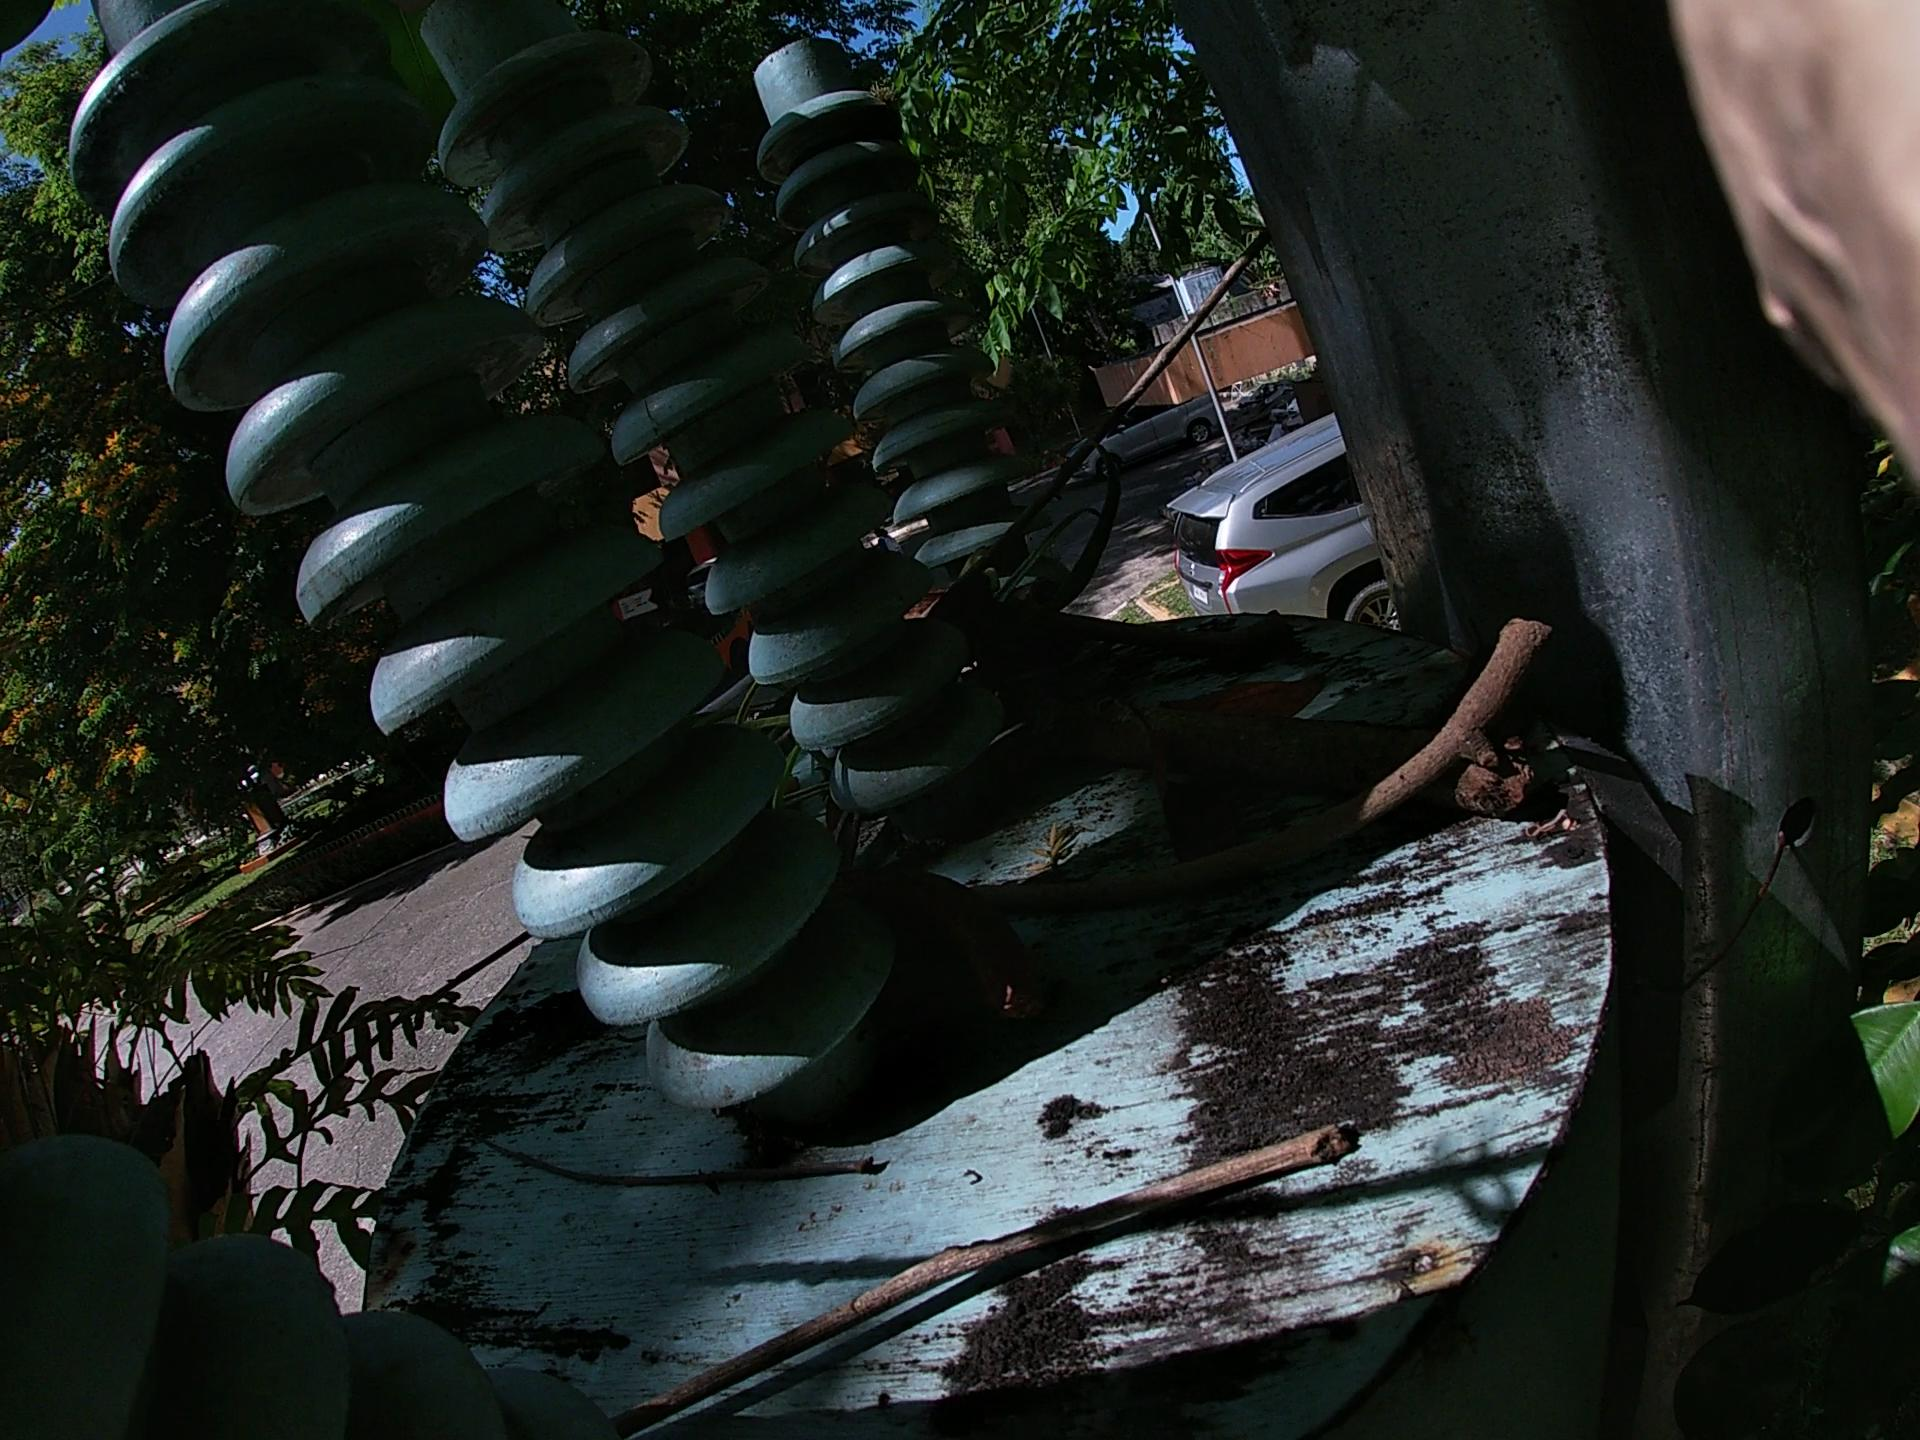branch with leaves: (748, 526, 1474, 917)
leaf: (1064, 641, 1385, 821)
mahogany fruit: (828, 817, 983, 1133), (508, 1349, 517, 1361)
tree branch: (509, 1091, 1513, 1351), (868, 215, 1299, 673), (881, 746, 1568, 945)
